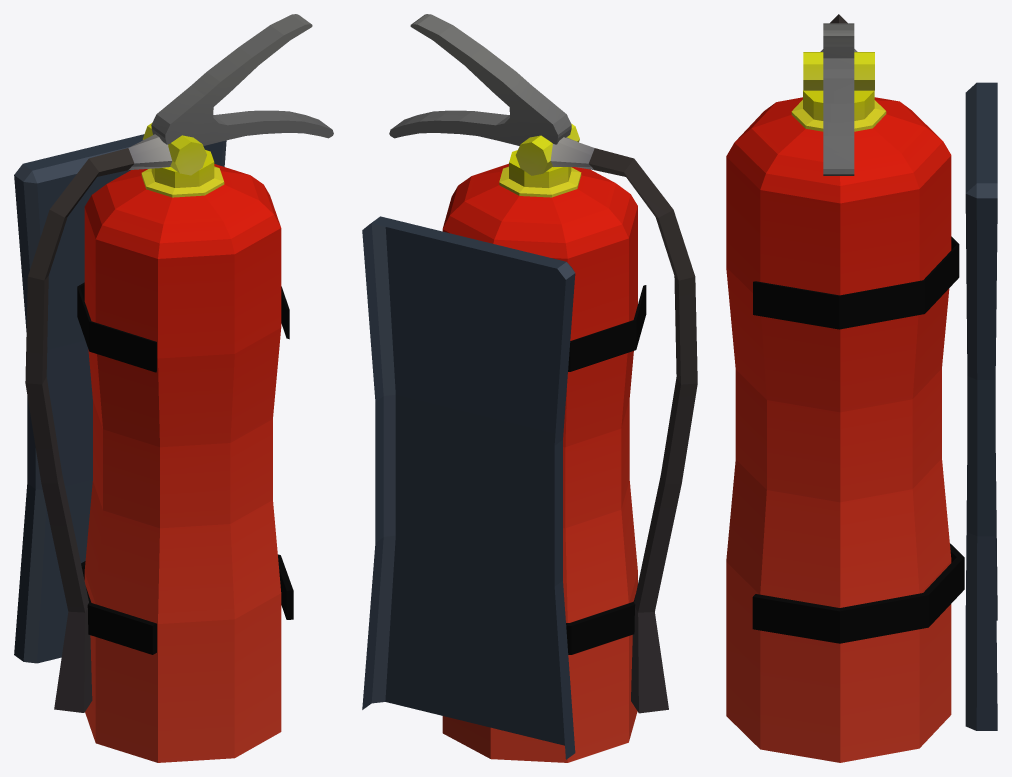
Rendered from fire.fbx.
3 views of the same model, side by side, from view 1: azimuth 30°, elevation 25°; view 2: azimuth 150°, elevation 25°; view 3: azimuth 270°, elevation 25° (orthographic). The views are drawn at different scales.
Parts seen in each view (by area): view 1: Cube.009; view 2: Cube.009; view 3: Cube.009.
Boxes of the visible parts, bbox=[...] form: Cube.009: bbox=[14, 14, 333, 762]; Cube.009: bbox=[362, 14, 697, 762]; Cube.009: bbox=[726, 14, 997, 762].
Size of the model in its own units: 61.52 by 131 by 43.23.
